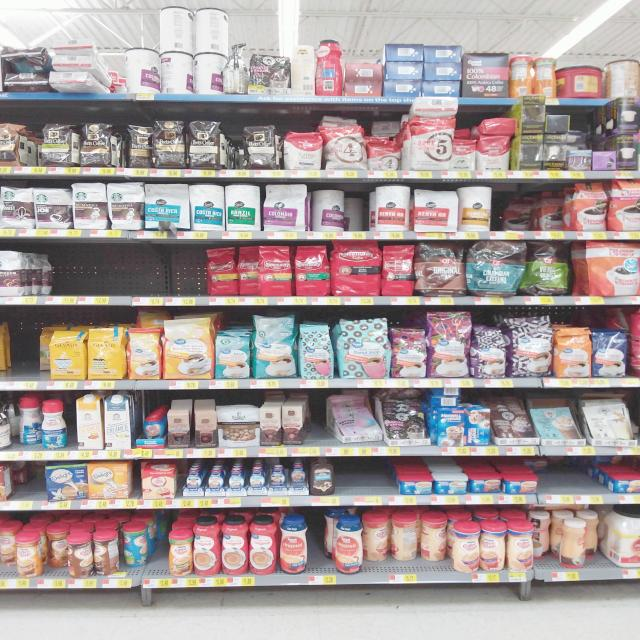empty_space: (62, 251, 194, 292), (545, 463, 610, 489), (345, 463, 393, 494), (12, 319, 35, 370), (505, 189, 535, 227), (16, 465, 44, 498)
